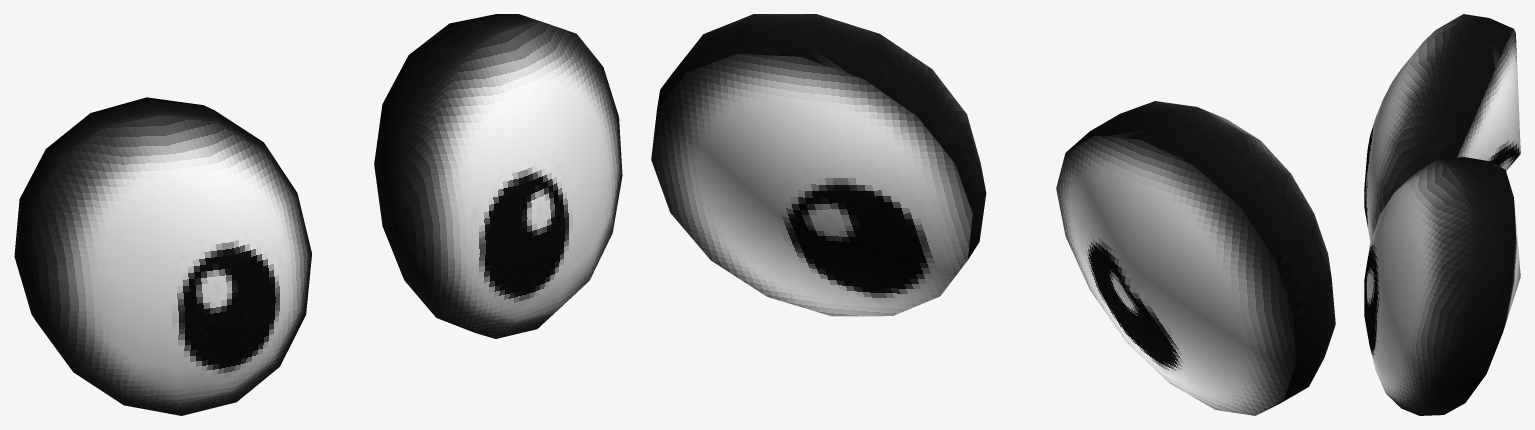
Rendered from m_e_yubi.FBX.
The picture shows the model from 3 angles, left to right: view 1: azimuth 30°, elevation 25°; view 2: azimuth 150°, elevation 25°; view 3: azimuth 270°, elevation 25°; orthographic projection. The views are drawn at different scales.
Visible parts, largest first — view 1: eye_yubi01; view 2: eye_yubi01; view 3: eye_yubi01.
Boxes of the visible parts, x1,y1,x2,y2 form: eye_yubi01: (14,14,622,415); eye_yubi01: (651,14,1335,415); eye_yubi01: (1364,14,1520,415).
Size of the model in its own units: 5 by 2.27 by 1.35.
